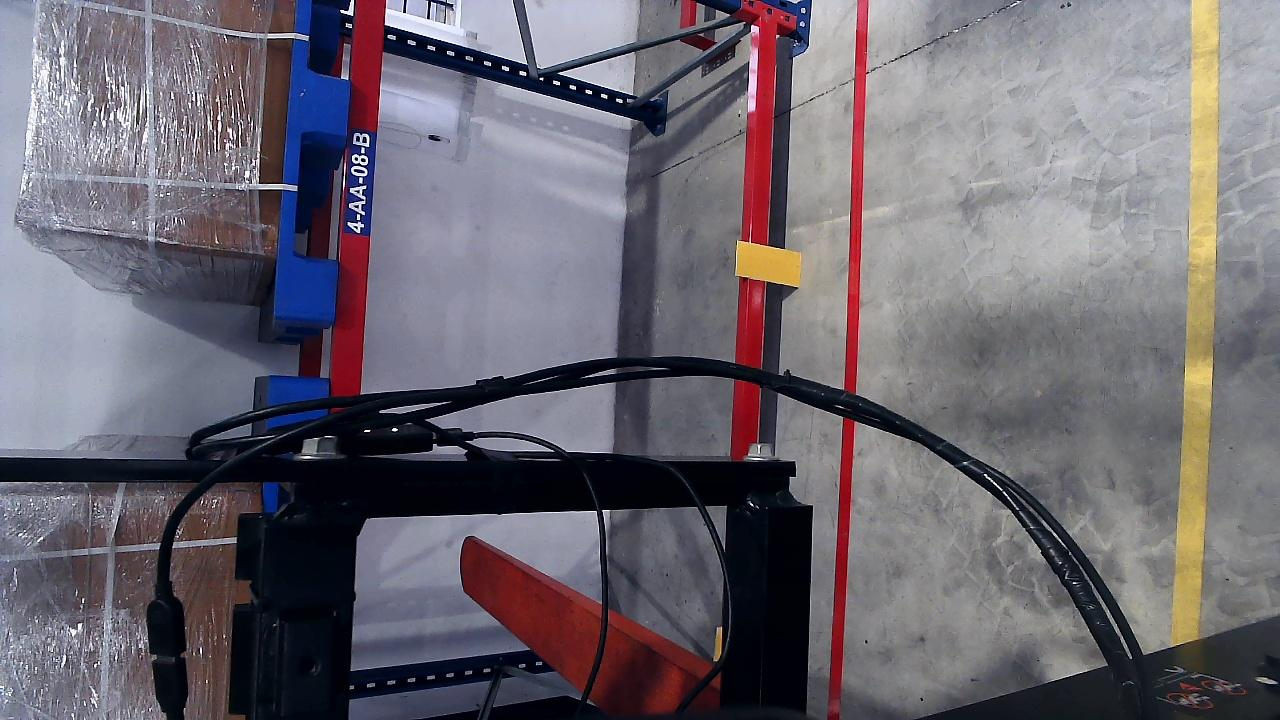h_rack: (330, 0, 388, 396), (742, 16, 780, 354)
orange_strip: (735, 241, 801, 287)
red_line: (824, 393, 857, 713), (843, 1, 868, 392)
small_pallet: (270, 0, 363, 316)
yellow_line: (1173, 62, 1221, 648)
